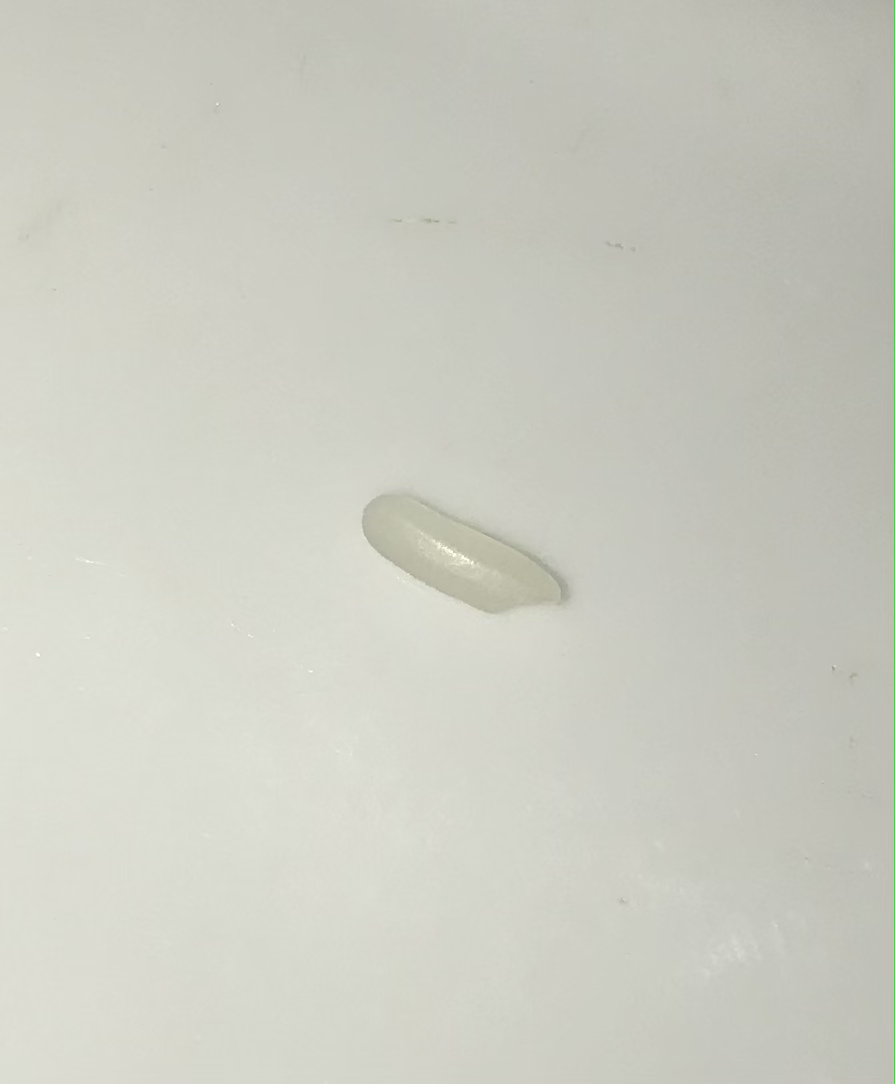Gao Ngoc Troi: (342, 469, 585, 646)
